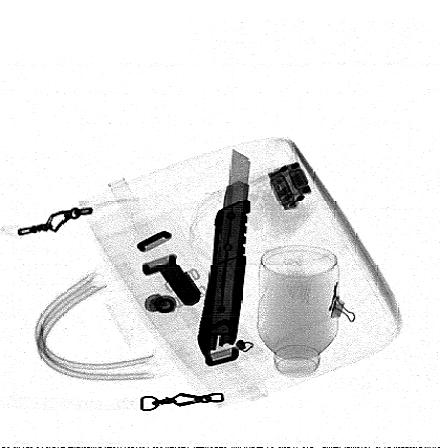Knife: (197, 147, 252, 360)
